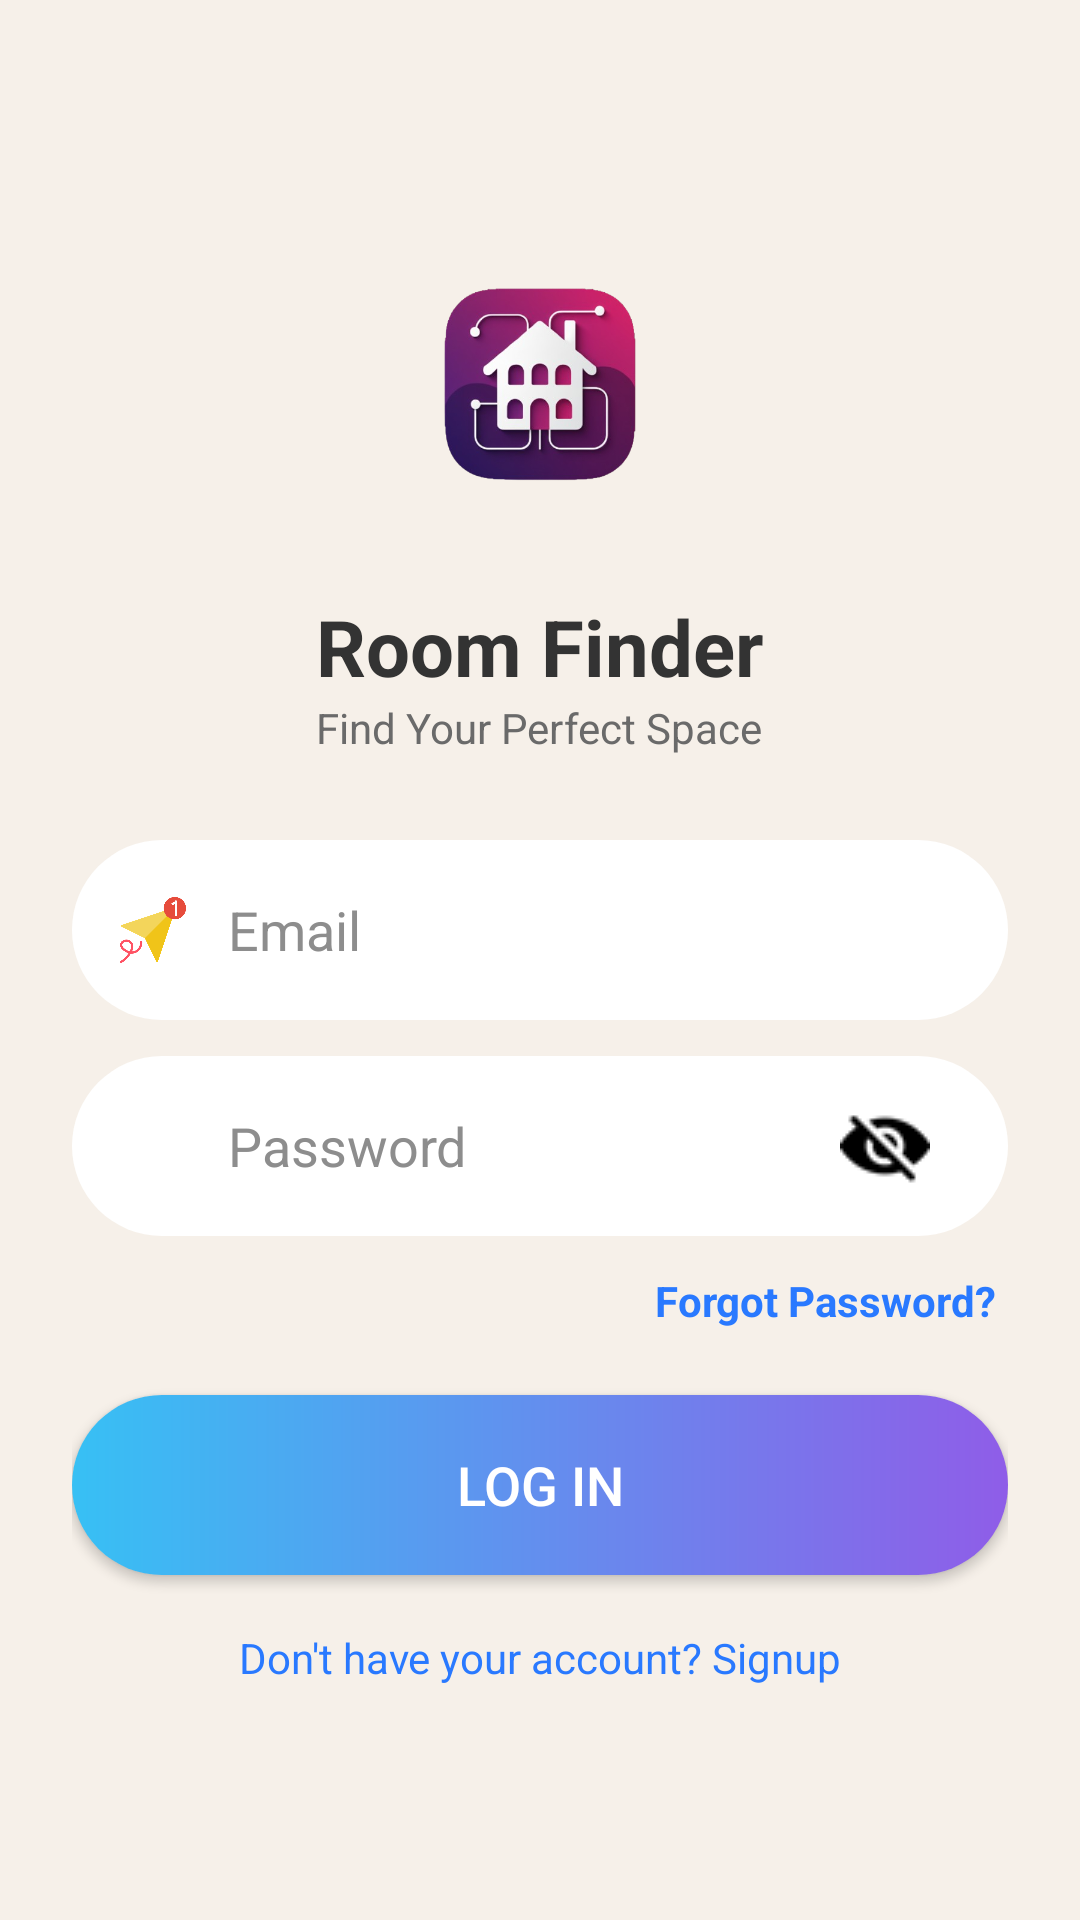

Icon bounding boxes for this 1080×1920 phone screenshot, format (x1, y1, x2, y2):
message: (120, 897, 186, 963)
